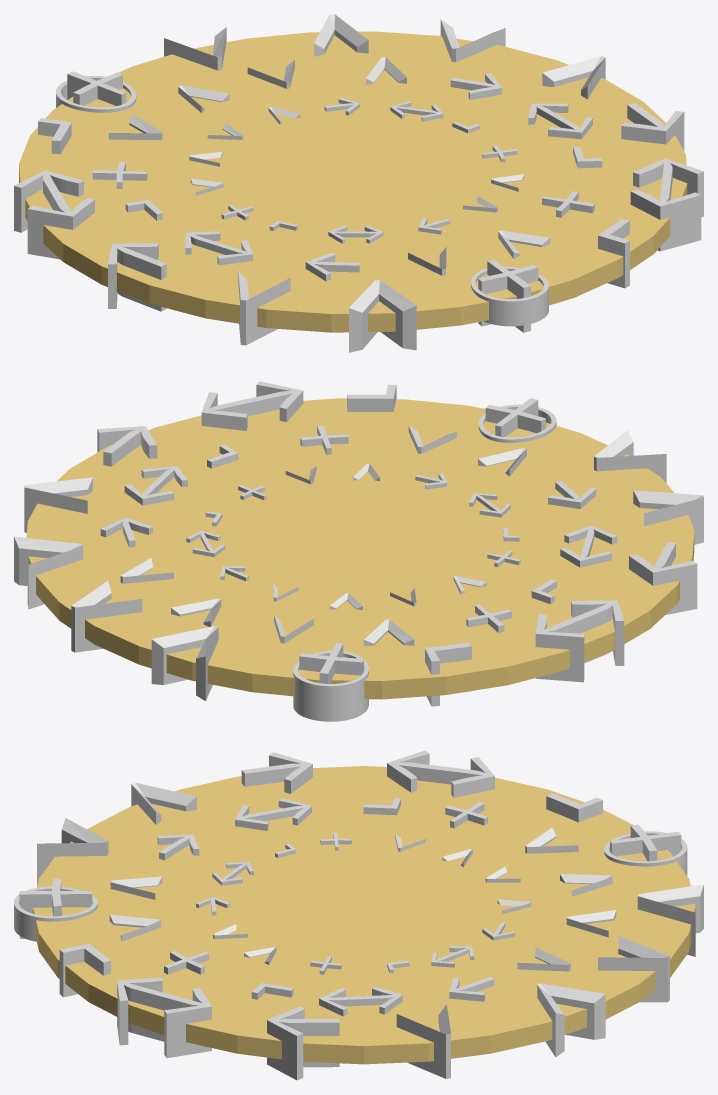
The model's file is PORTAL.fbx.
3 renders of one model, top to bottom at view 1: azimuth 30°, elevation 25°; view 2: azimuth 150°, elevation 25°; view 3: azimuth 270°, elevation 25°, orthographic.
Parts seen in each view (by area): view 1: Cylinder.075, Text.018, Text.024, Text.025; view 2: Cylinder.075, Text.018, Text.024, Text.025; view 3: Cylinder.075, Text.018, Text.024, Text.025.
Part boxes in pixels (x1,y1,x2,y2): Cylinder.075: (19,31,687,332); Text.018: (14,14,703,352); Text.024: (92,57,602,281); Text.025: (189,98,523,243); Cylinder.075: (26,398,694,699); Text.018: (14,381,703,721); Text.024: (100,425,616,646); Text.025: (186,463,520,609); Cylinder.075: (33,766,695,1064); Text.018: (14,750,703,1080); Text.024: (109,798,616,1016); Text.025: (196,832,531,974).
Bounding box in the file's own units: 5742 × 422 × 5864.
